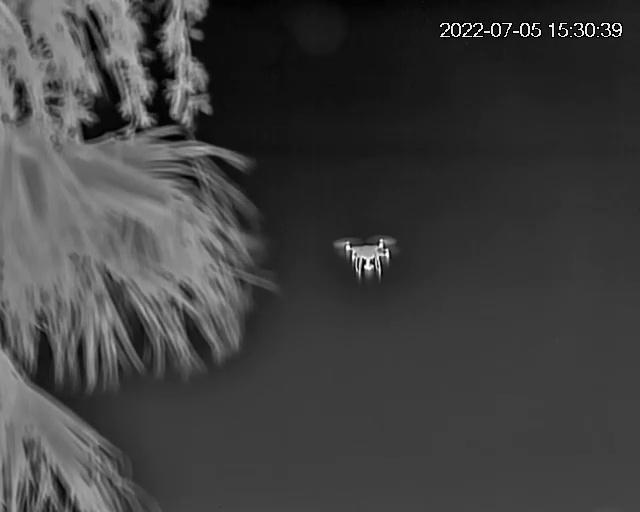DJI-Phantom: (334, 235, 401, 282)
